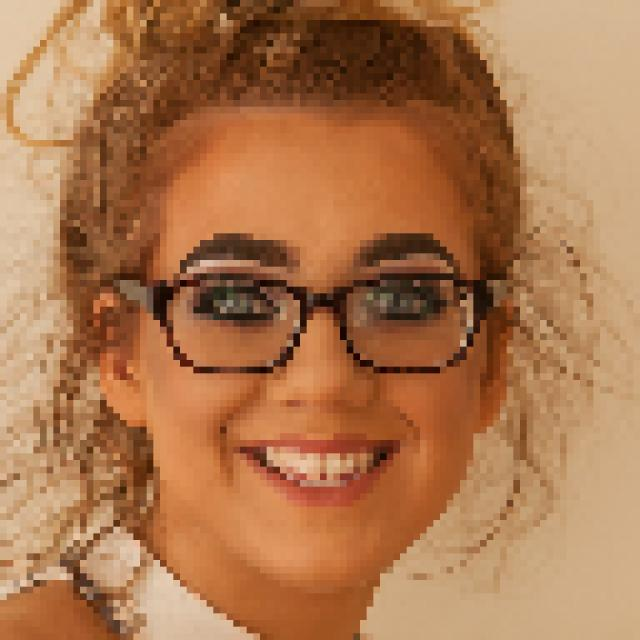happy: (119, 46, 510, 626)
